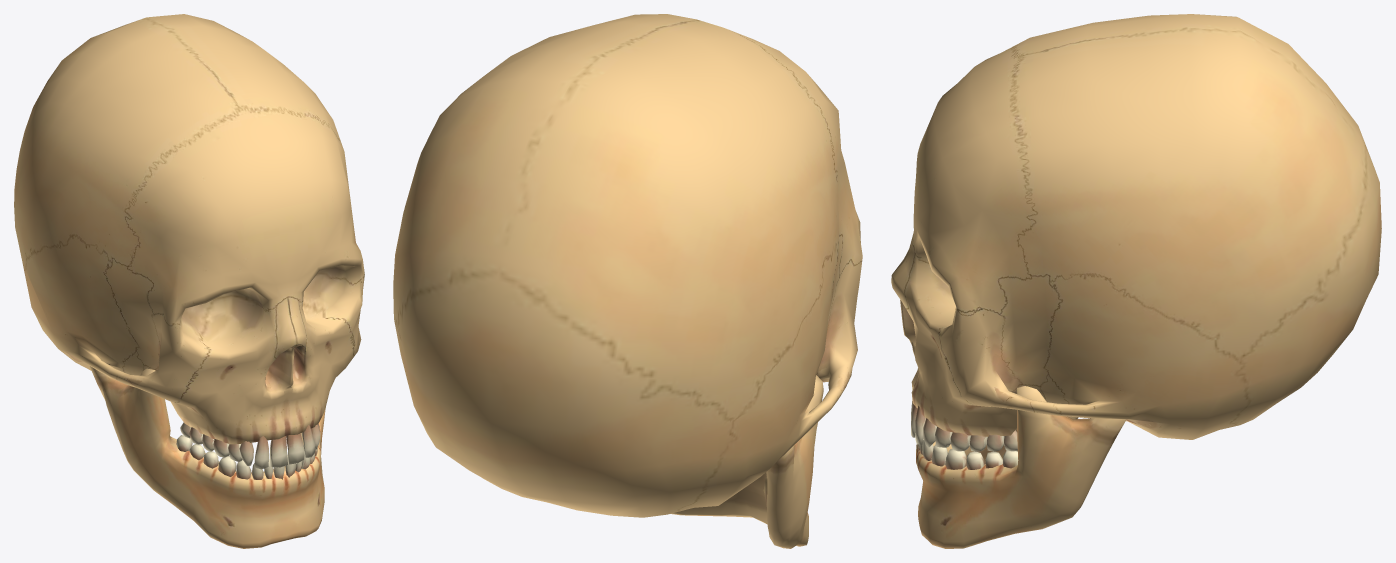
File: chad_skull.glb
The picture shows the model from 3 angles, left to right: view 1: azimuth 30°, elevation 25°; view 2: azimuth 150°, elevation 25°; view 3: azimuth 270°, elevation 25°; orthographic projection. The views are drawn at different scales.
Parts seen in each view (by area): view 1: Skull; view 2: Skull; view 3: Skull.
Part boxes in pixels (left/top/right/bottom): Skull: left=14, top=14, right=364, bottom=548; Skull: left=393, top=14, right=862, bottom=548; Skull: left=891, top=14, right=1381, bottom=548.
Bounding box in the file's own units: 1.92 × 2.85 × 2.55.
Materials: 1 (1 with a texture image).
